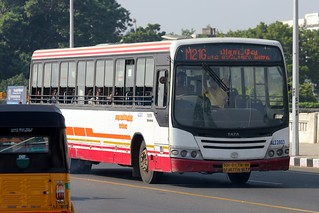bus: (27, 36, 289, 183)
threewheel: (1, 104, 76, 213)
